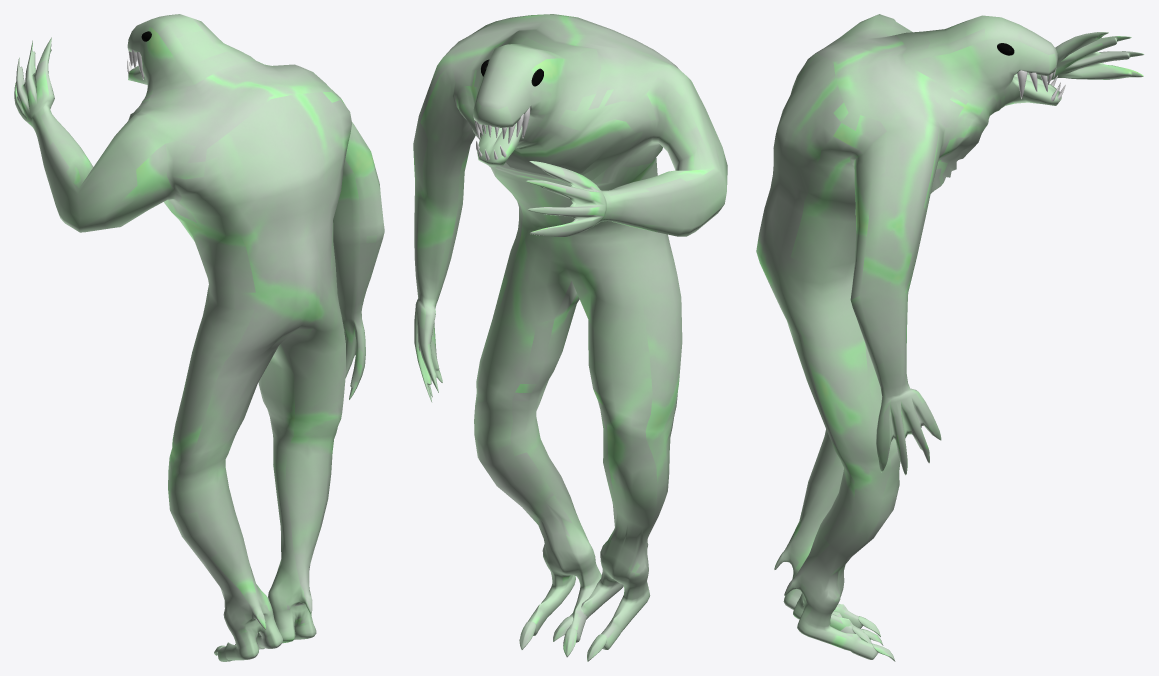
Rendered from Berserkercorrer.0029.obj.
The picture shows the model from 3 angles, left to right: view 1: azimuth 30°, elevation 25°; view 2: azimuth 150°, elevation 25°; view 3: azimuth 270°, elevation 25°; orthographic projection. The views are drawn at different scales.
Visible parts, largest first — view 1: polySurface27; view 2: polySurface27; view 3: polySurface27.
Part boxes in pixels (left/top/right/bottom): polySurface27: left=14, top=14, right=384, bottom=661; polySurface27: left=413, top=14, right=727, bottom=661; polySurface27: left=756, top=14, right=1144, bottom=661.
Size of the model in its own units: 11.71 by 23.18 by 13.11.
Materials: 1 (1 with a texture image).
